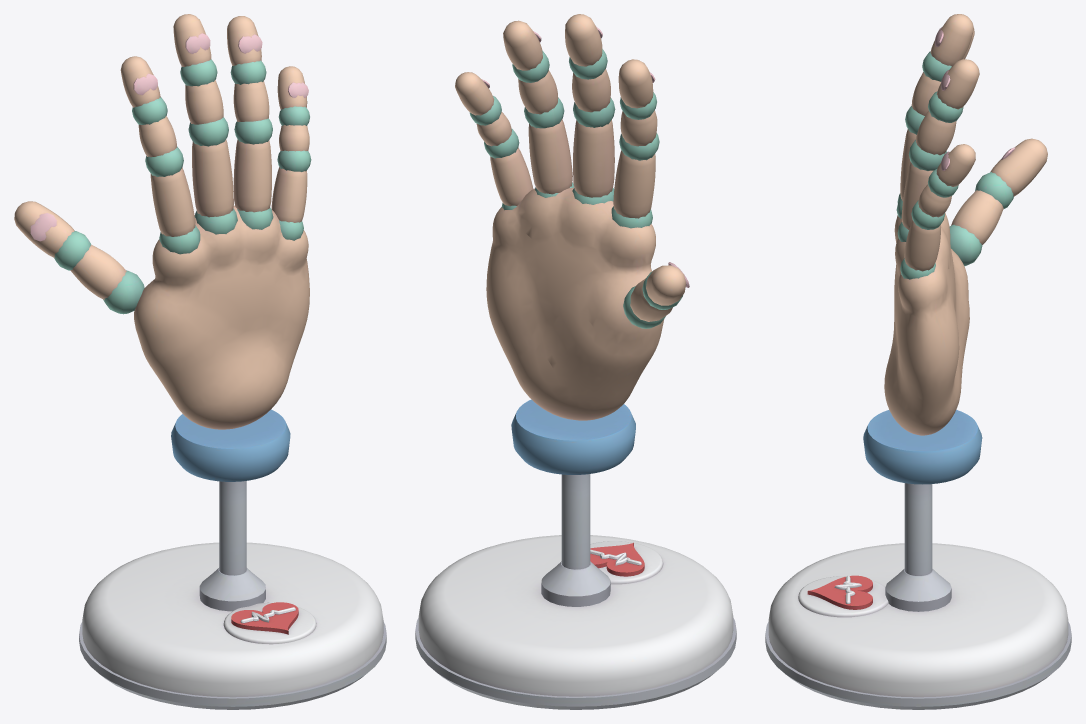
File: human-hand.glb
3 views of the same model, side by side, from view 1: azimuth 30°, elevation 25°; view 2: azimuth 150°, elevation 25°; view 3: azimuth 270°, elevation 25° (orthographic). The views are drawn at different scales.
Parts seen in each view (by area): view 1: human-hand_body; view 2: human-hand_body; view 3: human-hand_body.
Part boxes in pixels (<box>): human-hand_body: <box>14,14,386,709</box>; human-hand_body: <box>415,14,736,709</box>; human-hand_body: <box>765,14,1071,709</box>.
Bounding box in the file's own units: 0.1583 × 0.3221 × 0.144.
1 material, 1 textured.
